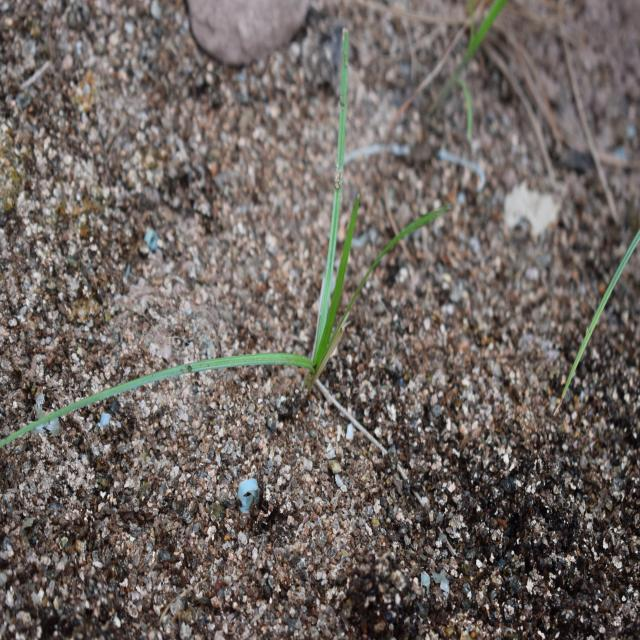sedge: (0, 145, 423, 443)
